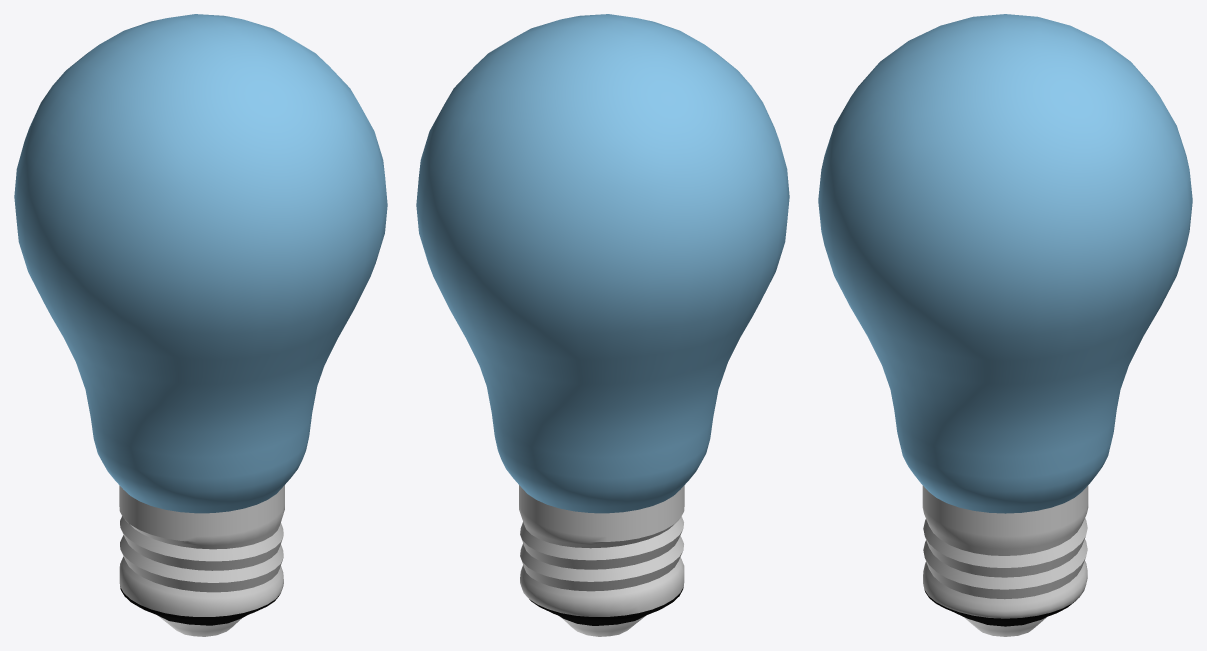
3 renders of one model, left to right at view 1: azimuth 30°, elevation 25°; view 2: azimuth 150°, elevation 25°; view 3: azimuth 270°, elevation 25°, orthographic.
Visible parts, largest first — view 1: Roundcube; view 2: Roundcube; view 3: Roundcube.
Part boxes in pixels (x1=…): Roundcube: x1=14, y1=14, x2=387, y2=636; Roundcube: x1=416, y1=14, x2=789, y2=636; Roundcube: x1=818, y1=14, x2=1192, y2=636.
Bounding box in the file's own units: 4.6 × 8.12 × 4.6.
